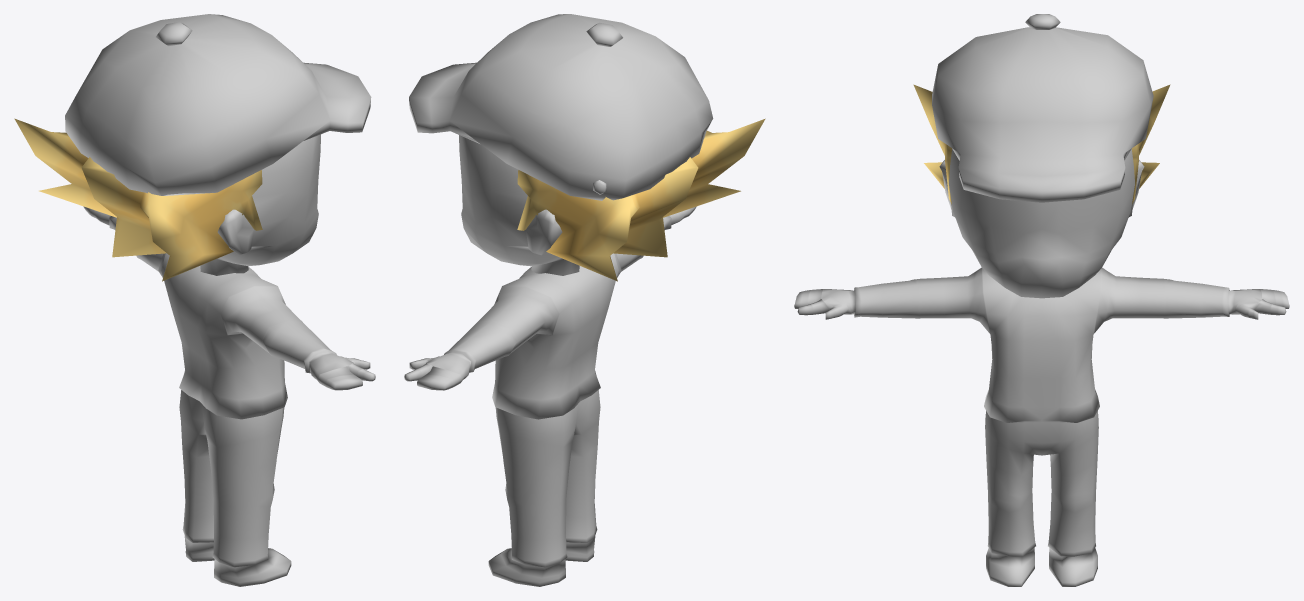
The model's file is Character_Player_Male.fbx.
3 views of the same model, side by side, from view 1: azimuth 30°, elevation 25°; view 2: azimuth 150°, elevation 25°; view 3: azimuth 270°, elevation 25° (orthographic). The views are drawn at different scales.
Visible parts, largest first — view 1: Player1_Hat, Player1_Body, Player1_Hair, Player1_Head; view 2: Player1_Hat, Player1_Body, Player1_Hair, Player1_Head; view 3: Player1_Body, Player1_Hat, Player1_Head, Player1_Hair.
Boxes of the visible parts, <box> form: Player1_Hat: <box>65,14,371,195</box>; Player1_Body: <box>83,206,375,586</box>; Player1_Hair: <box>14,118,262,281</box>; Player1_Head: <box>200,134,320,275</box>; Player1_Hat: <box>409,14,713,200</box>; Player1_Body: <box>404,206,696,586</box>; Player1_Hair: <box>517,118,765,281</box>; Player1_Head: <box>459,135,579,275</box>; Player1_Body: <box>794,267,1289,586</box>; Player1_Hat: <box>932,14,1153,202</box>; Player1_Head: <box>939,149,1144,298</box>; Player1_Hair: <box>913,84,1170,204</box>.
Size of the model in its own units: 171 by 326 by 278.
